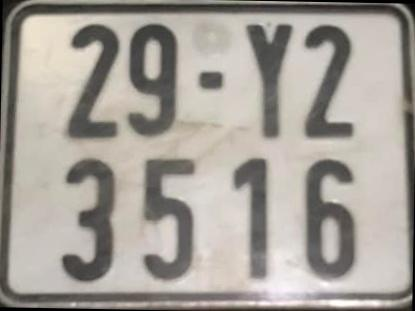-: (199, 67, 226, 90)
1: (234, 154, 270, 280)
2: (66, 23, 119, 139), (306, 26, 354, 143)
3: (61, 158, 117, 281)
5: (140, 160, 196, 278)
6: (304, 158, 357, 280)
9: (126, 22, 177, 139)
Y: (244, 21, 292, 140)
